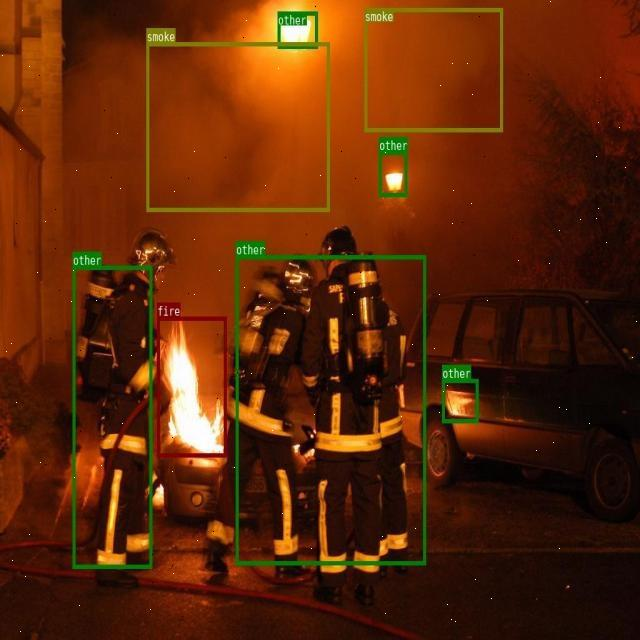fire: (157, 316, 226, 457)
smoke: (146, 42, 329, 211), (364, 8, 502, 131)
